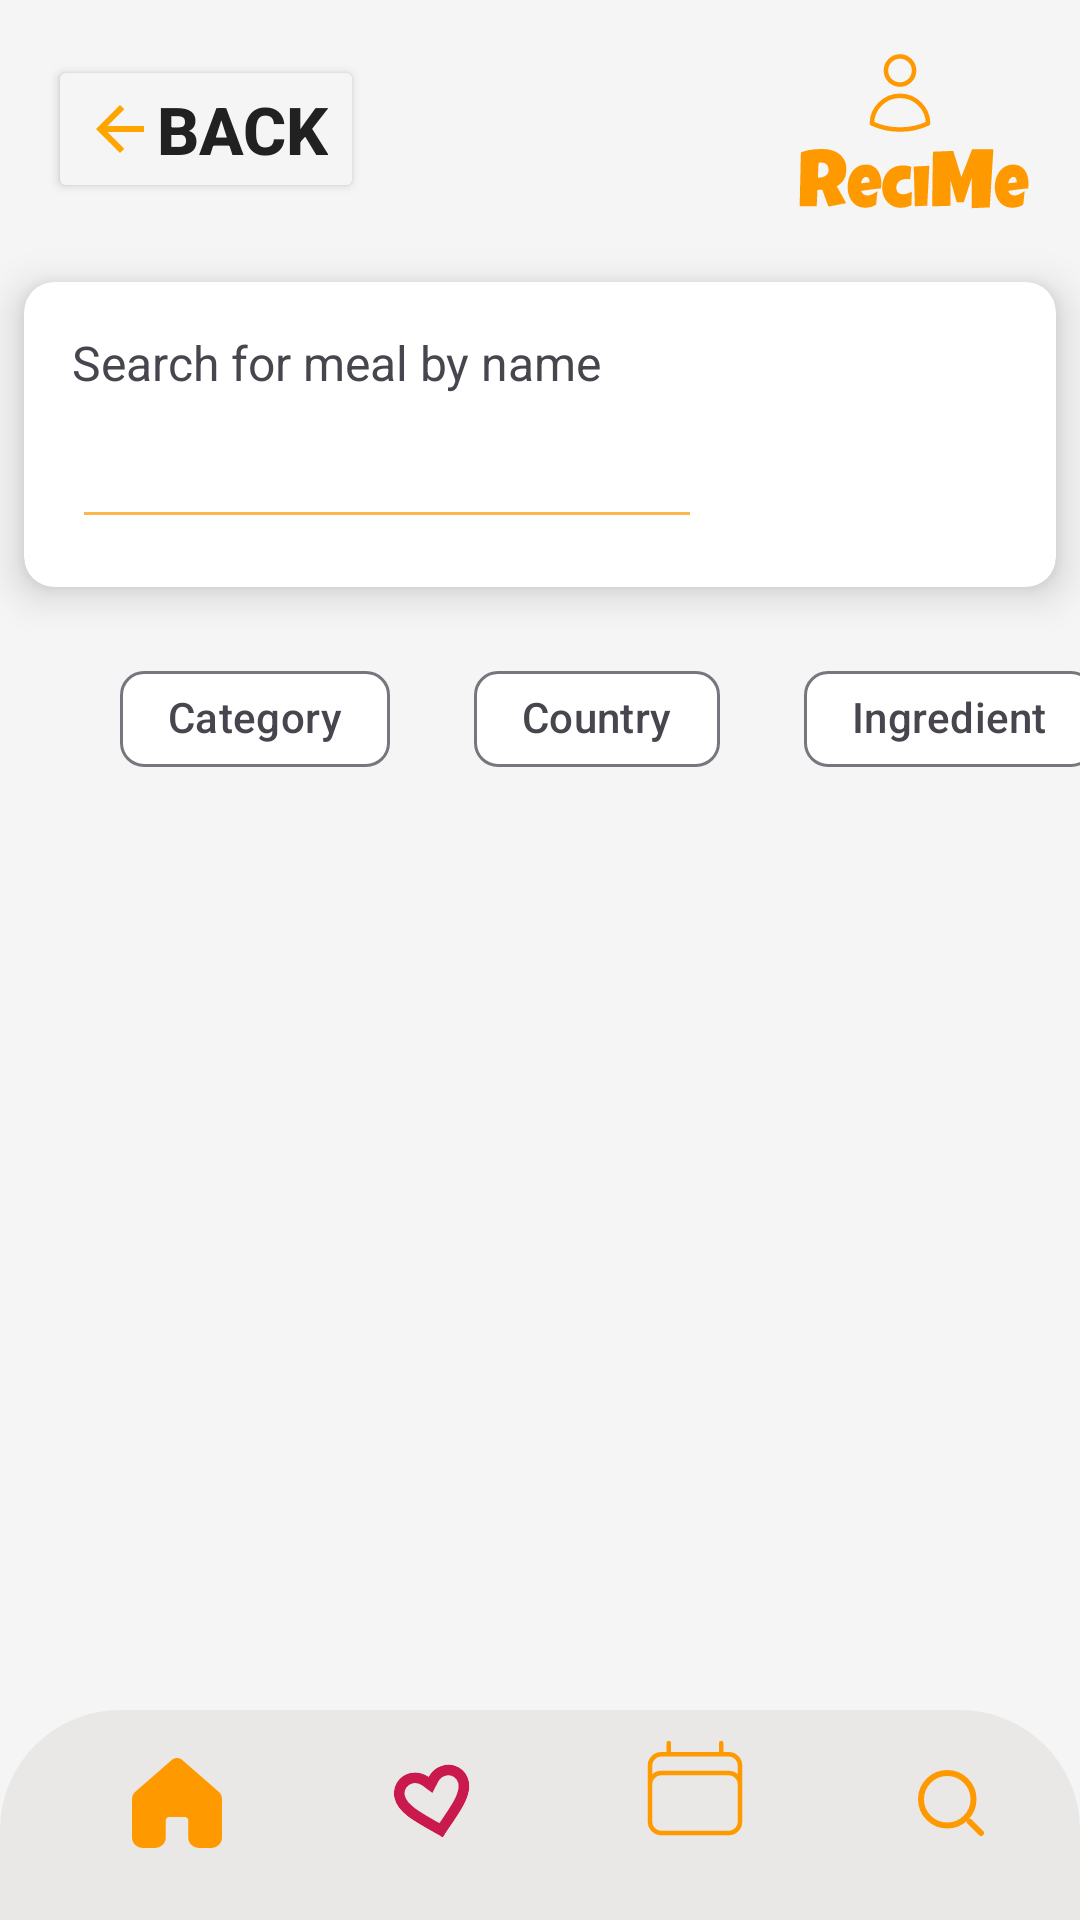

Point at icon controls on the screen. Image size 1080w x 1920h, points as point (x, y).
Calendar: point (695, 1788)
Favorite: point (431, 1800)
Home: point (177, 1803)
Search: point (951, 1803)
